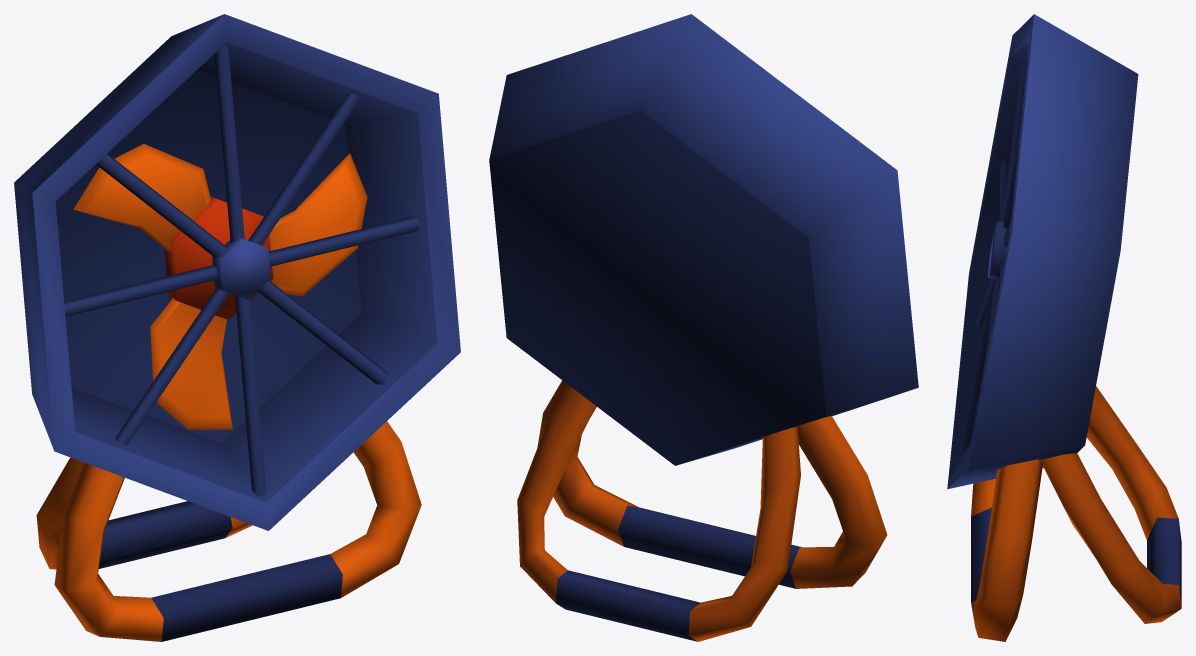
Rendered from Ventilador.fbx.
The picture shows the model from 3 angles, left to right: view 1: azimuth 30°, elevation 25°; view 2: azimuth 150°, elevation 25°; view 3: azimuth 270°, elevation 25°; orthographic projection. The views are drawn at different scales.
Visible parts, largest first — view 1: Ventilador; view 2: Ventilador; view 3: Ventilador.
Boxes of the visible parts, left/top/right/bottom form: Ventilador: left=14, top=14, right=460, bottom=641; Ventilador: left=489, top=14, right=918, bottom=641; Ventilador: left=947, top=14, right=1181, bottom=641.
Bounding box in the file's own units: 58.89 × 81.39 × 29.98.
